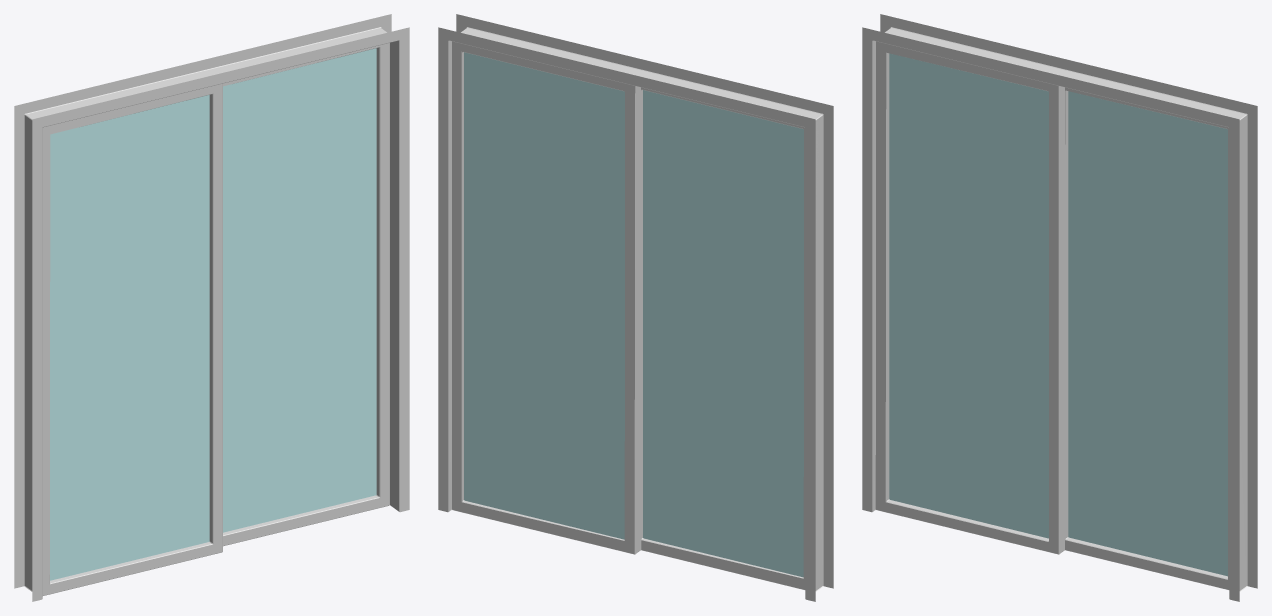
Rendered from Glass_Sliding_door.fbx.
The picture shows the model from 3 angles, left to right: view 1: azimuth 30°, elevation 25°; view 2: azimuth 150°, elevation 25°; view 3: azimuth 330°, elevation 25°; orthographic projection.
Visible parts, largest first — view 1: Glass_Sliding_Door; view 2: Glass_Sliding_Door; view 3: Glass_Sliding_Door.
Part boxes in pixels (x1,y1,x2,y2): Glass_Sliding_Door: (14, 14, 409, 601); Glass_Sliding_Door: (438, 14, 833, 601); Glass_Sliding_Door: (862, 14, 1257, 601).
Bounding box in the file's own units: 180 × 220 × 15.
